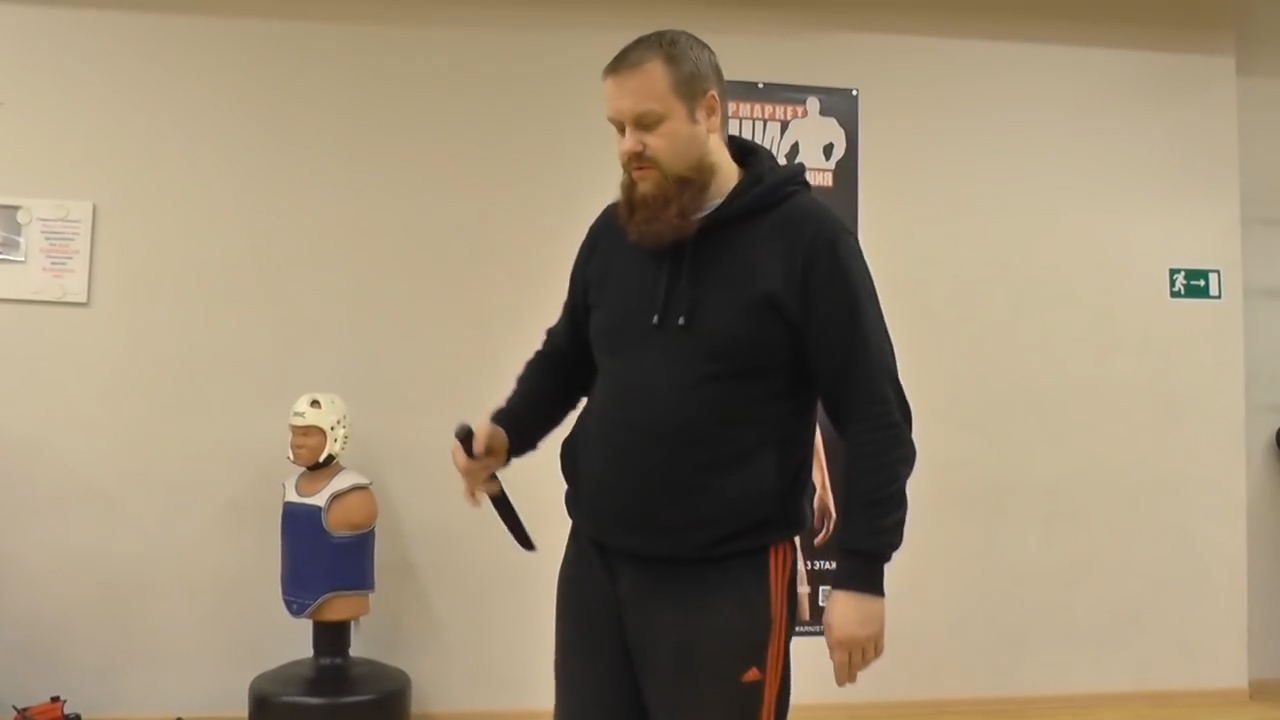knife: (450, 419, 543, 560)
